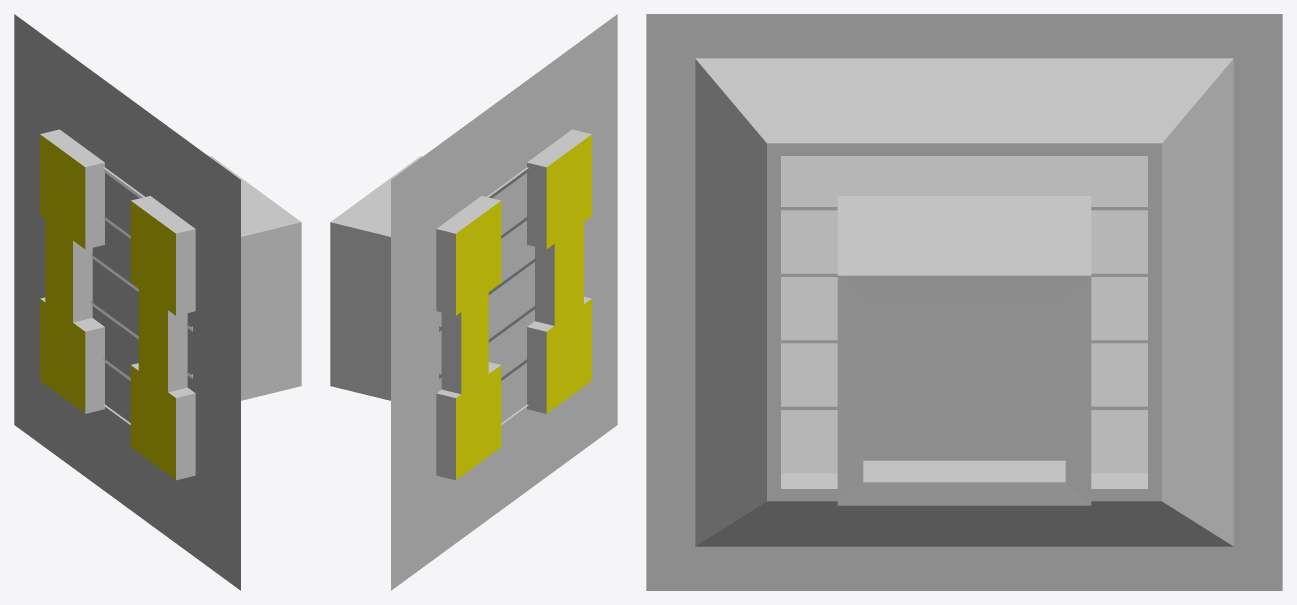
File: Walls.fbx
3 views of the same model, side by side, from view 1: azimuth 30°, elevation 25°; view 2: azimuth 150°, elevation 25°; view 3: azimuth 270°, elevation 25° (orthographic). The views are drawn at different scales.
Visible parts, largest first — view 1: SM_Wall_01, SM_Wall_03, SM_Wall_02, SM_Wall_06, SM_Wall_05, SM_Wall_04; view 2: SM_Wall_01, SM_Wall_02, SM_Wall_06, SM_Wall_03, SM_Wall_05, SM_Wall_04; view 3: SM_Wall_04, SM_Wall_01, SM_Wall_05, SM_Wall_02, SM_Wall_03.
Boxes of the visible parts, x1=… form: SM_Wall_01: x1=14, y1=15, x2=240, y2=590; SM_Wall_03: x1=14, y1=15, x2=240, y2=589; SM_Wall_02: x1=14, y1=14, x2=240, y2=589; SM_Wall_06: x1=40, y1=129, x2=195, y2=480; SM_Wall_05: x1=14, y1=22, x2=301, y2=584; SM_Wall_04: x1=14, y1=16, x2=240, y2=587; SM_Wall_01: x1=391, y1=14, x2=617, y2=590; SM_Wall_02: x1=391, y1=15, x2=617, y2=589; SM_Wall_06: x1=436, y1=129, x2=591, y2=480; SM_Wall_03: x1=391, y1=17, x2=617, y2=588; SM_Wall_05: x1=330, y1=17, x2=617, y2=583; SM_Wall_04: x1=391, y1=16, x2=617, y2=587; SM_Wall_04: x1=646, y1=14, x2=1282, y2=589; SM_Wall_01: x1=646, y1=14, x2=1282, y2=590; SM_Wall_05: x1=646, y1=14, x2=1282, y2=590; SM_Wall_02: x1=646, y1=14, x2=1282, y2=590; SM_Wall_03: x1=646, y1=14, x2=1282, y2=590.
Bounding box in the file's own units: 1 × 1 × 0.3779.
